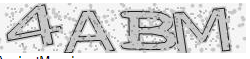4: (4, 2, 64, 53)
A: (64, 9, 117, 54)
B: (119, 9, 178, 54)
M: (172, 7, 233, 54)
